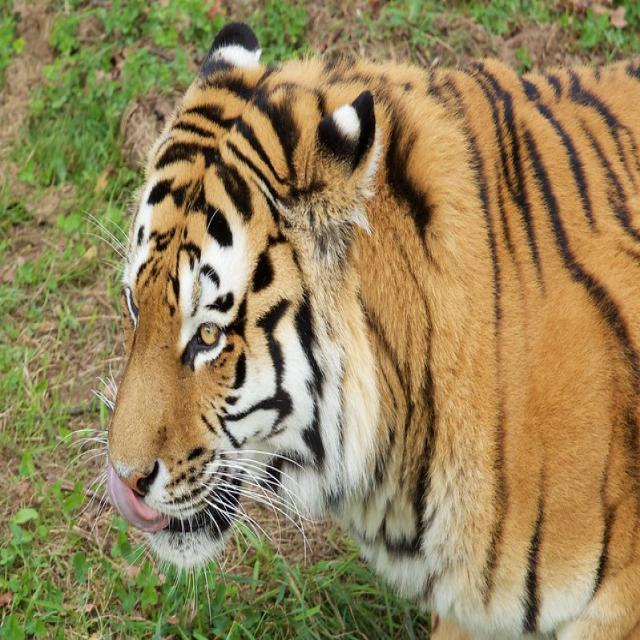Tiger: (103, 23, 639, 639)
